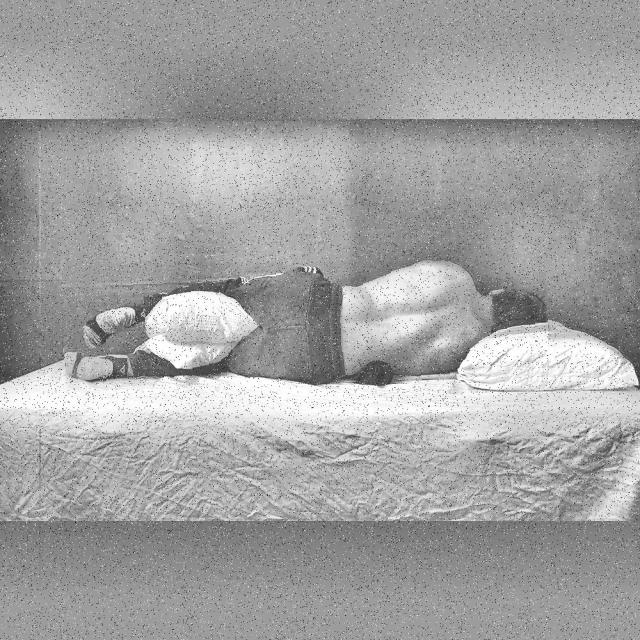Not_Supine: (64, 260, 547, 383)
